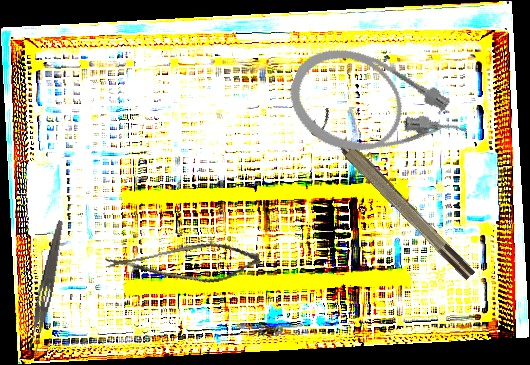Cannula: (276, 31, 480, 192)
Dressing Forceps: (24, 218, 67, 359)
Fixation Ring: (305, 107, 479, 290)
Micro Scissor: (104, 224, 263, 306)
